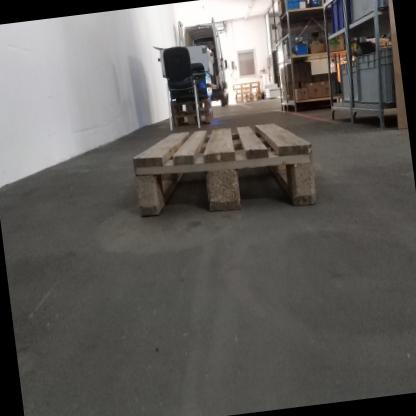BoxFace: (131, 119, 321, 221)
